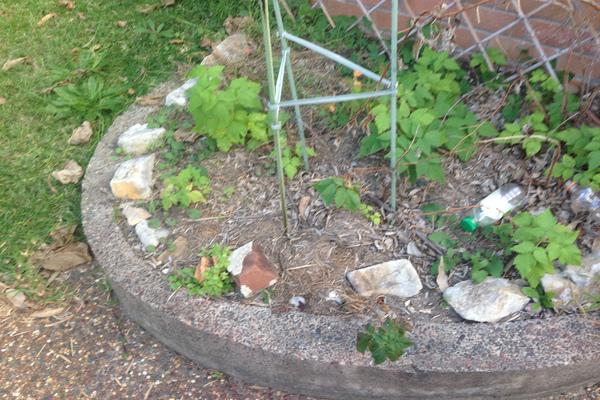Plastic Bottle: (464, 182, 529, 233), (562, 179, 599, 222)
